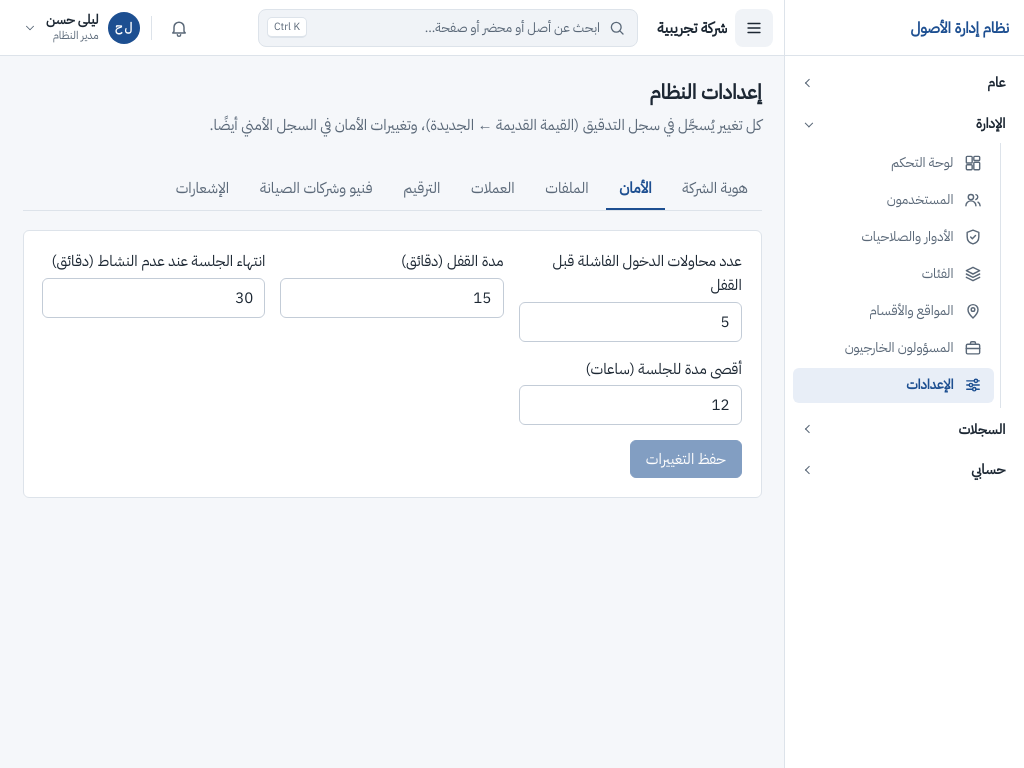
Test: Settings › validates in the browser first, then sends only the changed values and shows server field errors
The width and height of the screenshot is (1024, 768).
Replace the text in the number field labelled "عدد محاولات الدخول الفاشلة قبل القفل" with "2" at (630, 322), box [519,302,742,342]
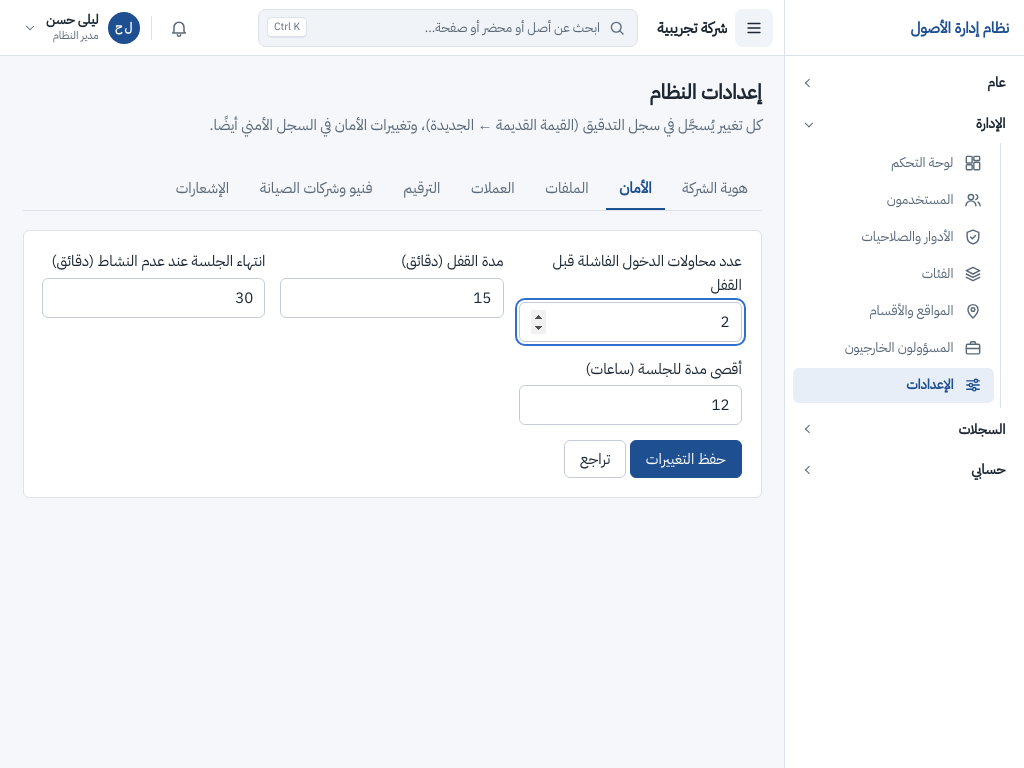
Click the button "حفظ التغييرات".
click(686, 459)  # box [630,440,742,478]
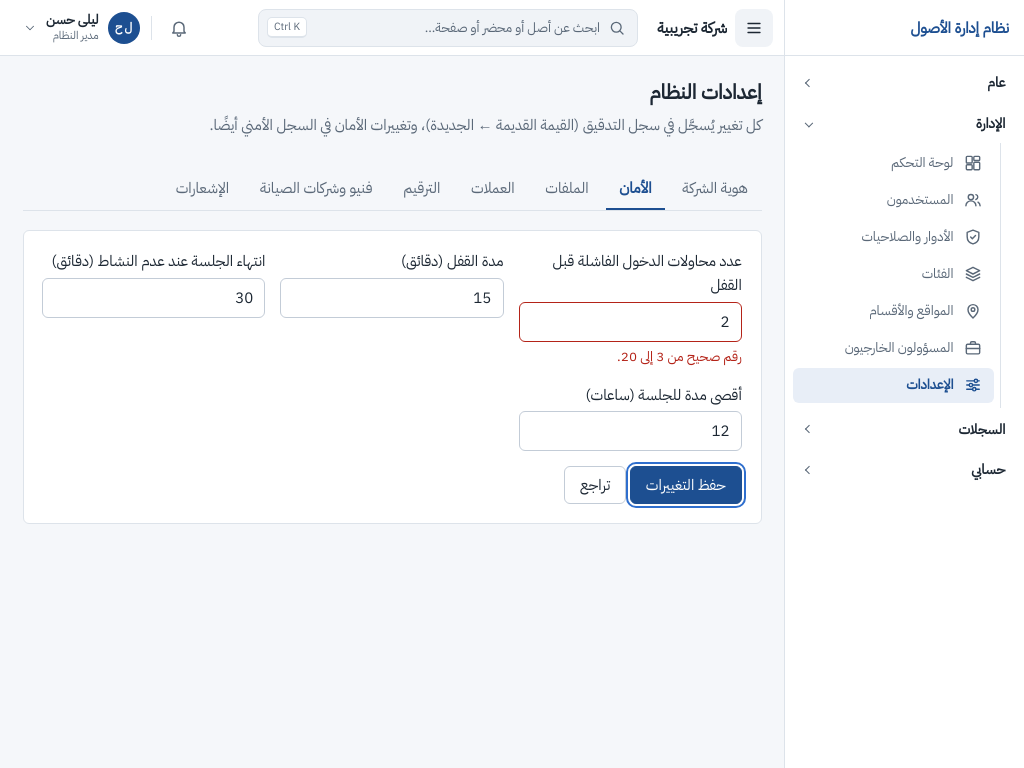
Now the text "رقم صحيح من 3 إلى 20." is shown, box [617,346,742,367]
Replace the text in the number field labelled "عدد محاولات الدخول الفاشلة قبل القفل" with "6" at (630, 322), box [519,302,742,342]
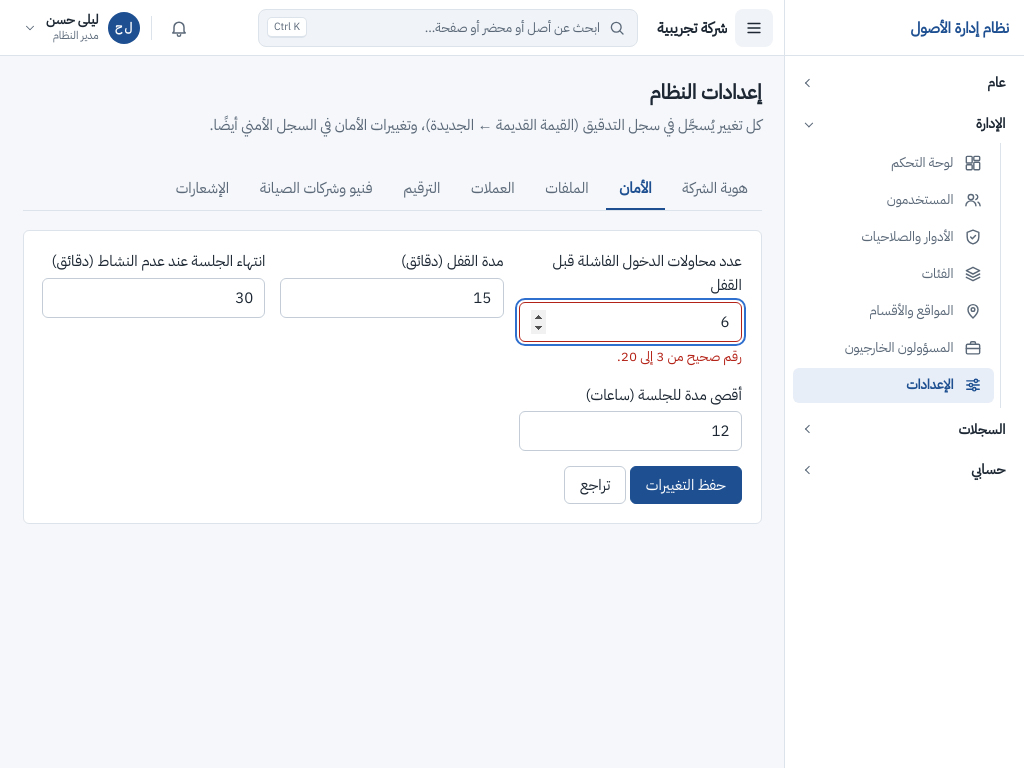
Click the button "حفظ التغييرات".
click(686, 485)  # box [630,466,742,504]
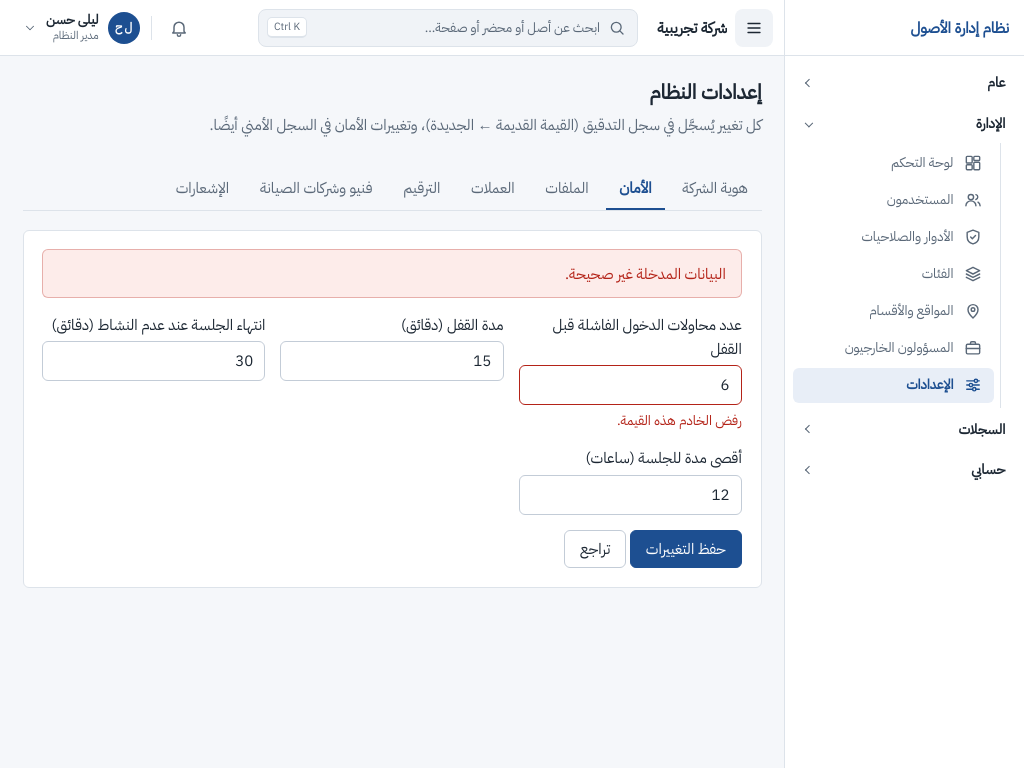
Now the text "رفض الخادم هذه القيمة." is shown, box [617,410,742,431]
